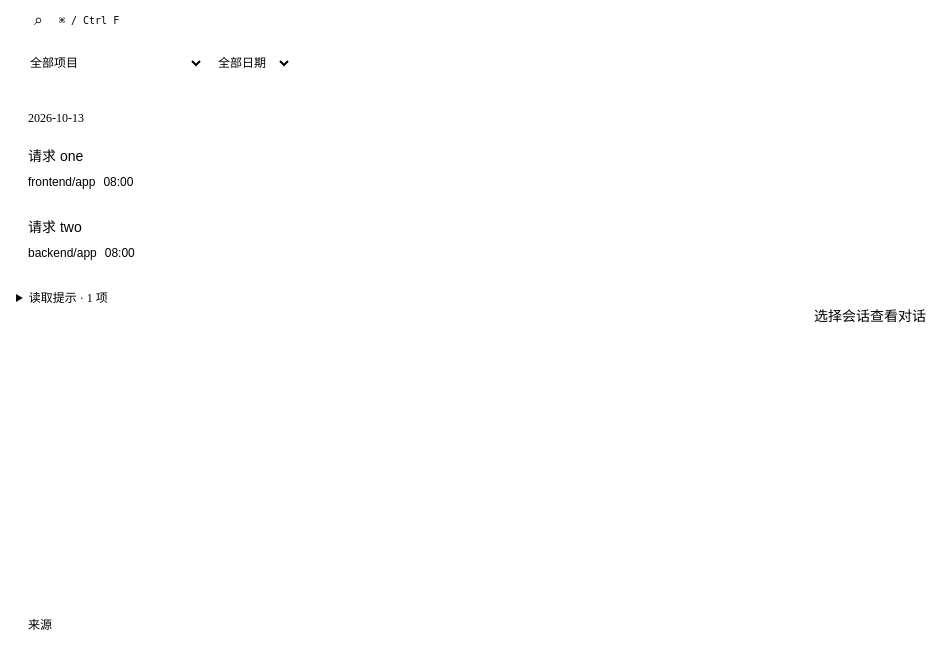
同名项目显示父目录，完整路径和读取问题仍可查看
The image size is (943, 647).
Expected: the text titled "/work/frontend/app" is shown, top-left (28, 175), bottom-right (95, 189)
Expected: the text titled "D:/work/backend/app" is shown, top-left (28, 246), bottom-right (97, 260)
Click the heading "读取提示 · 1 项". click: {"x": 68, "y": 298}
box: top-left (29, 291), bottom-right (108, 305)
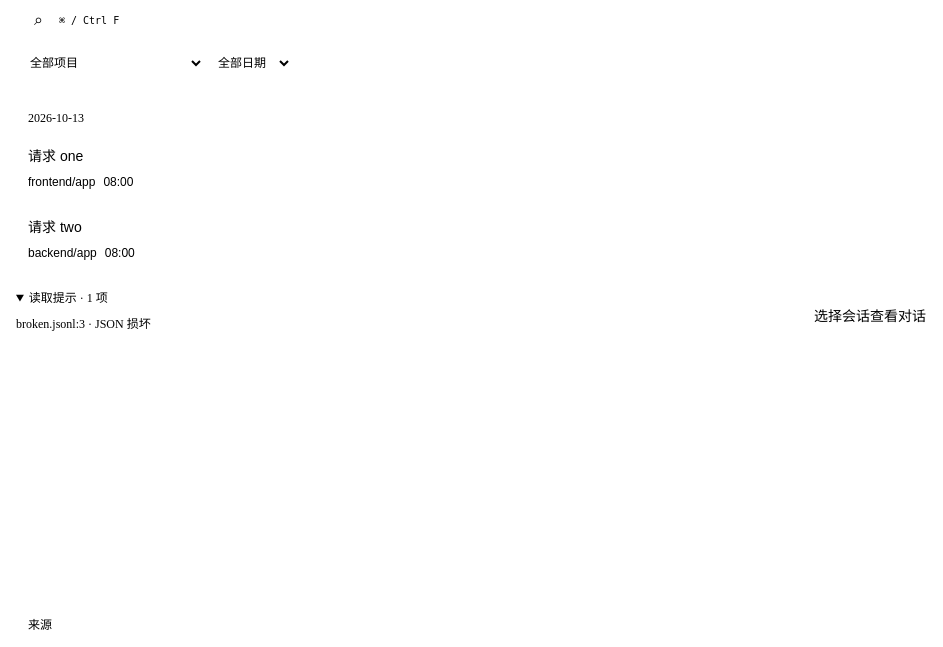
Now the text "broken.jsonl:3 · JSON 损坏" is shown, box top-left (16, 317), bottom-right (151, 331)
